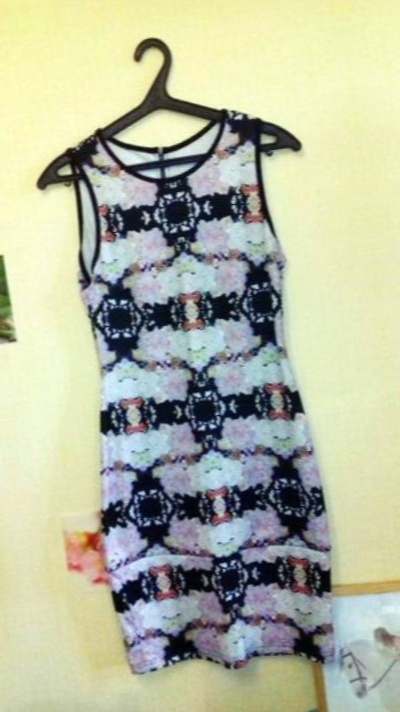Dress: (0, 57, 400, 712), (365, 10, 400, 666), (0, 107, 15, 712)
